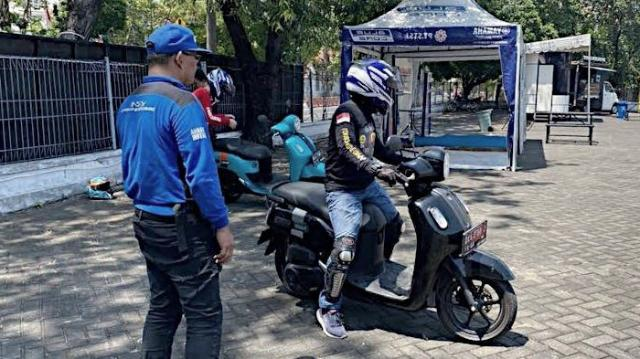helm: (345, 59, 406, 118), (207, 70, 238, 103)
motor: (255, 144, 522, 347), (204, 112, 332, 210)
